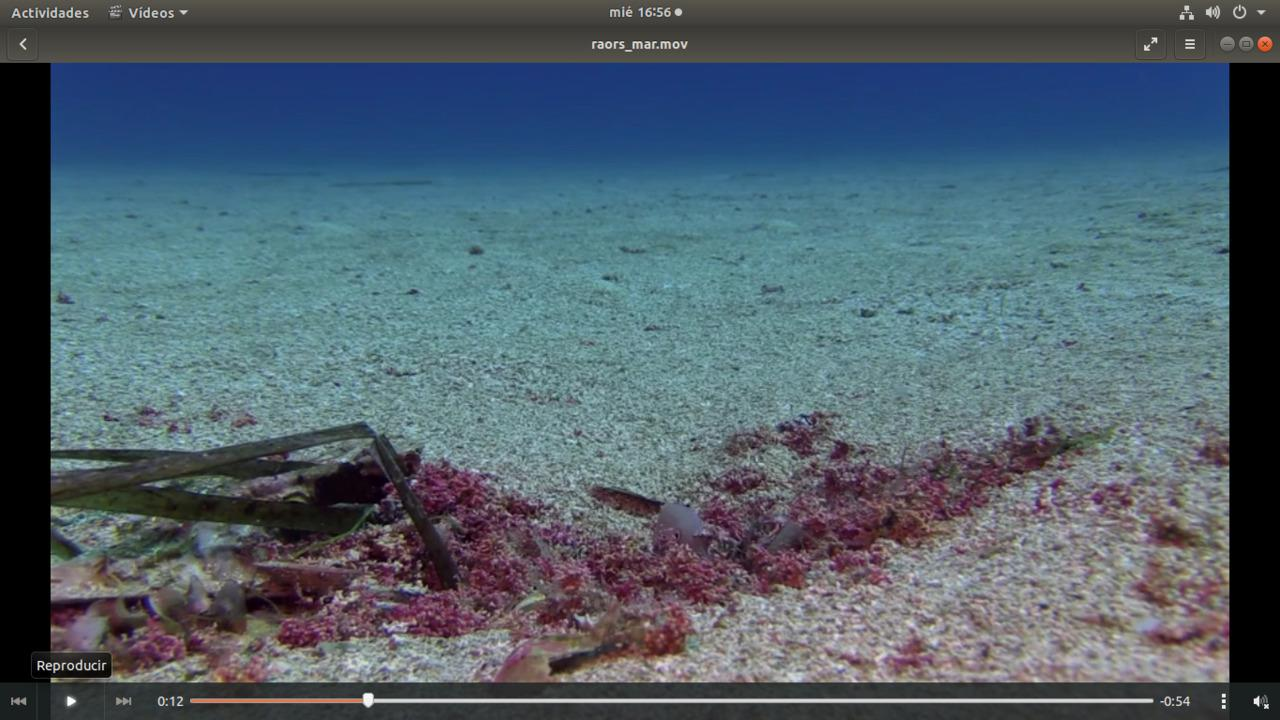raor: (641, 492, 710, 571)
